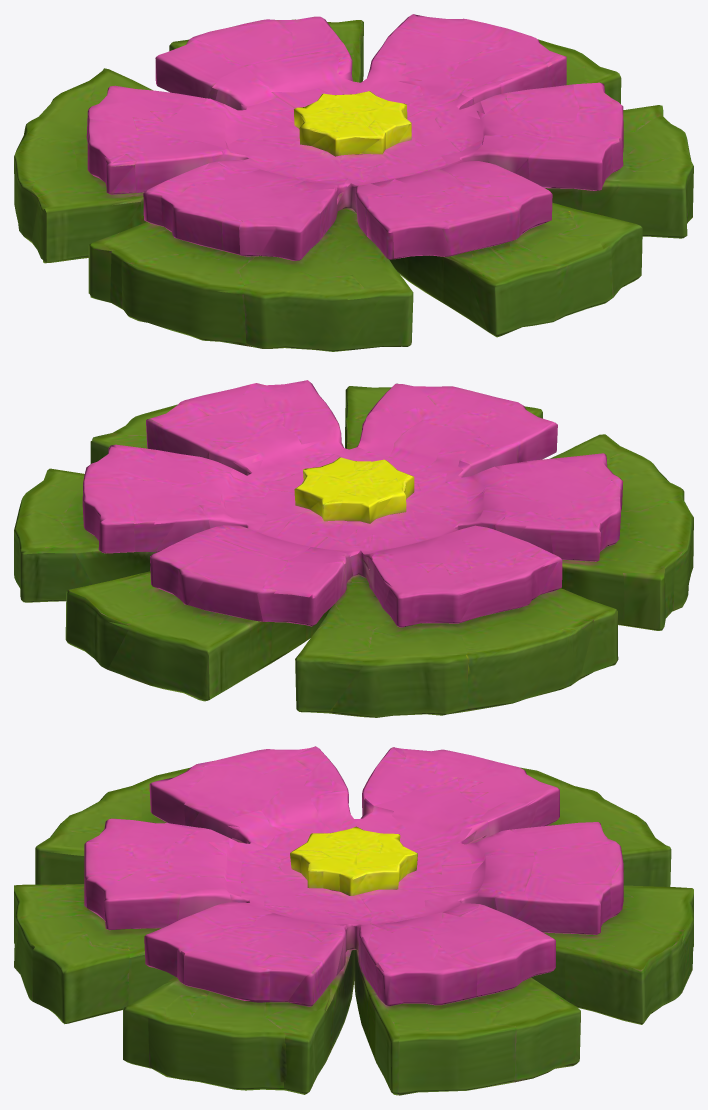
The model's file is lilypad.glb.
The picture shows the model from 3 angles, top to bottom: view 1: azimuth 30°, elevation 25°; view 2: azimuth 150°, elevation 25°; view 3: azimuth 270°, elevation 25°; orthographic projection. The views are drawn at different scales.
Bounding box in the file's own units: 1 × 0.1646 × 1.
Materials: 1 (1 with a texture image).
